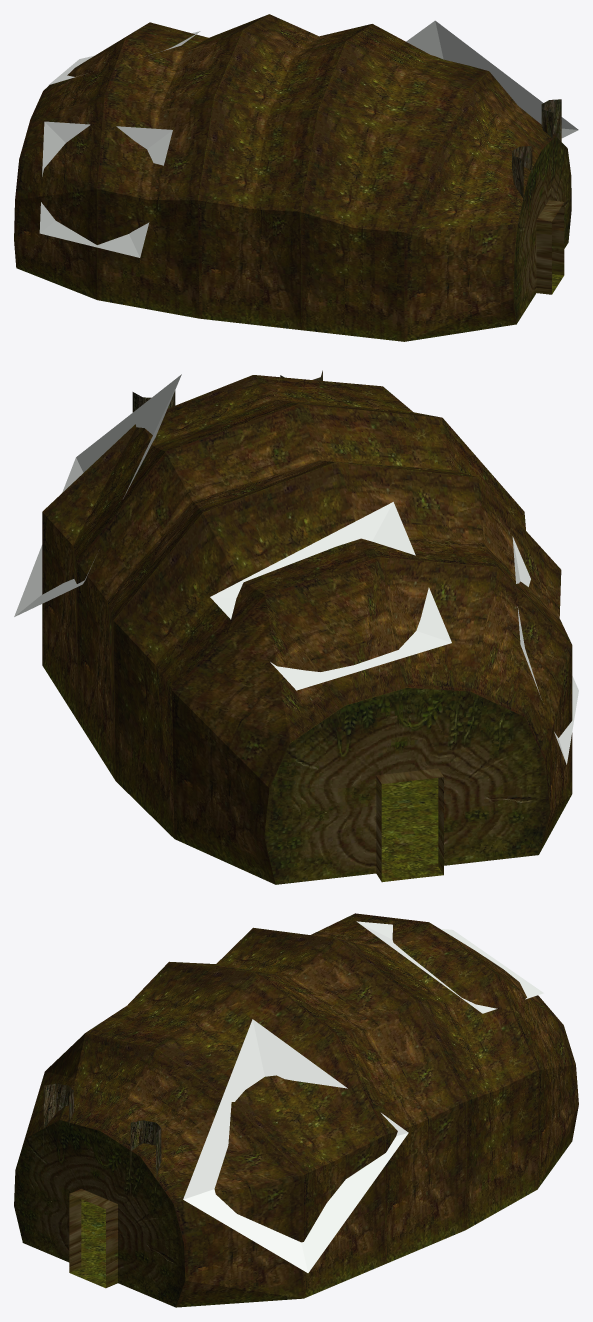
3 renders of one model, top to bottom at view 1: azimuth 30°, elevation 25°; view 2: azimuth 150°, elevation 25°; view 3: azimuth 270°, elevation 25°, orthographic. The views are drawn at different scales.
Visible parts, largest first — view 1: inside_the_deku_tree_01.dmx; view 2: inside_the_deku_tree_01.dmx; view 3: inside_the_deku_tree_01.dmx.
Part boxes in pixels (bbox=[...]): inside_the_deku_tree_01.dmx: bbox=[14, 14, 578, 341]; inside_the_deku_tree_01.dmx: bbox=[14, 370, 578, 884]; inside_the_deku_tree_01.dmx: bbox=[14, 913, 578, 1307].
Size of the model in its own units: 14.57 by 6.66 by 14.38.
